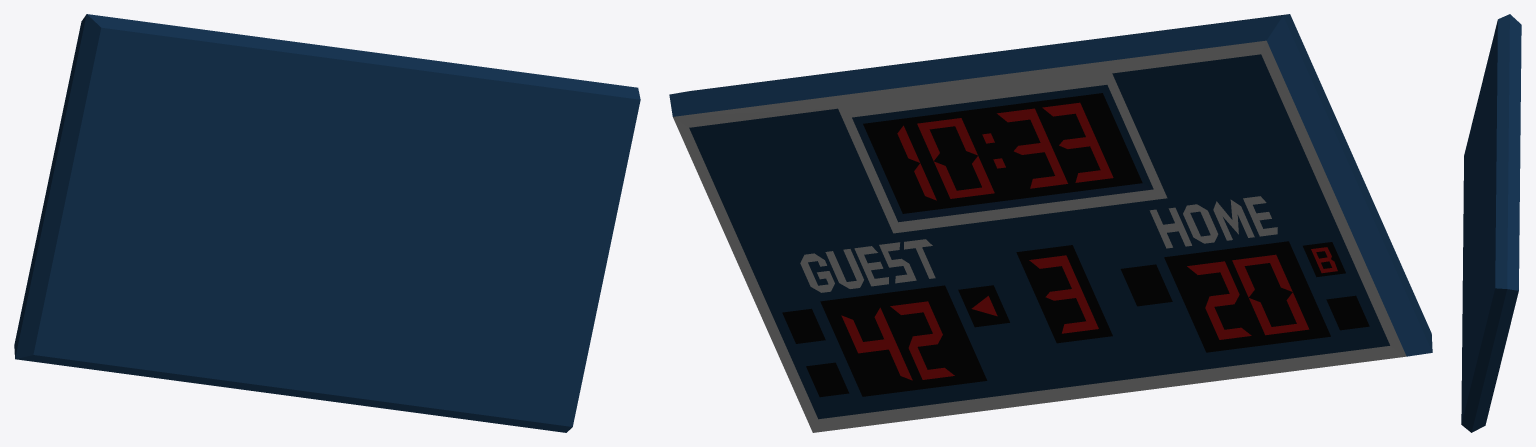
Rendered from hat_scoreboard.glb.
3 views of the same model, side by side, from view 1: azimuth 30°, elevation 25°; view 2: azimuth 150°, elevation 25°; view 3: azimuth 270°, elevation 25° (orthographic). The views are drawn at different scales.
Visible parts, largest first — view 1: hat_scoreboard; view 2: hat_scoreboard; view 3: hat_scoreboard.
Part boxes in pixels (<box>): hat_scoreboard: <box>14,14,640,432</box>; hat_scoreboard: <box>669,14,1432,432</box>; hat_scoreboard: <box>1461,14,1521,432</box>.
Size of the model in its own units: 0.4476 by 0.3307 by 0.0617.
